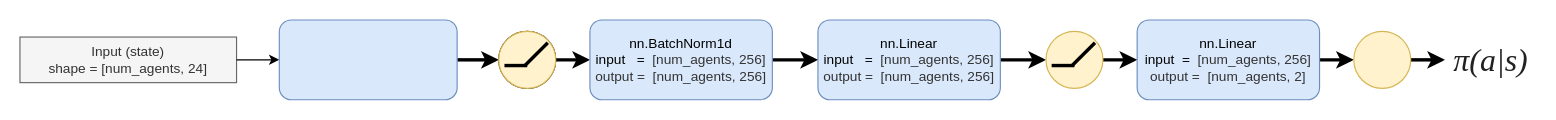
Image size: 1556x120. Some labels were removed from this diagram. The centre of each missing label's shape, as x and y in pixels:
nn.Linear input = [num_agents, 24] output = [num_agents, 256]: [367,59]
tanh: [1382,59]
